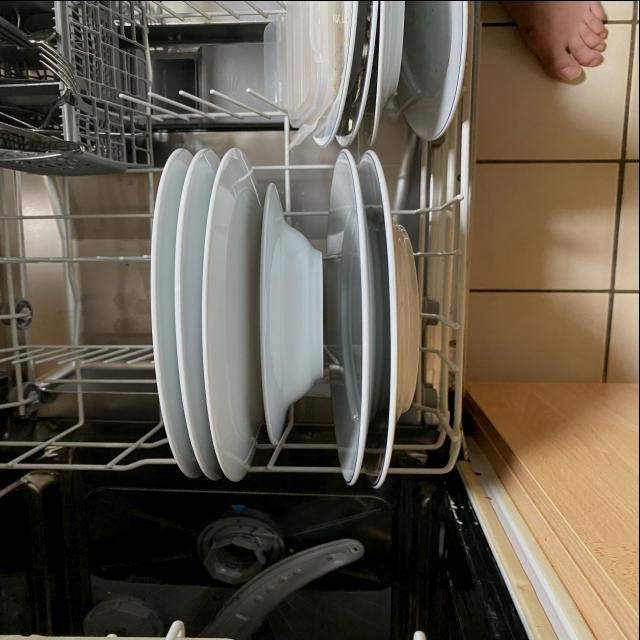clutery_bin: (11, 5, 57, 147)
empty_slot: (14, 202, 136, 435), (143, 2, 284, 149)
